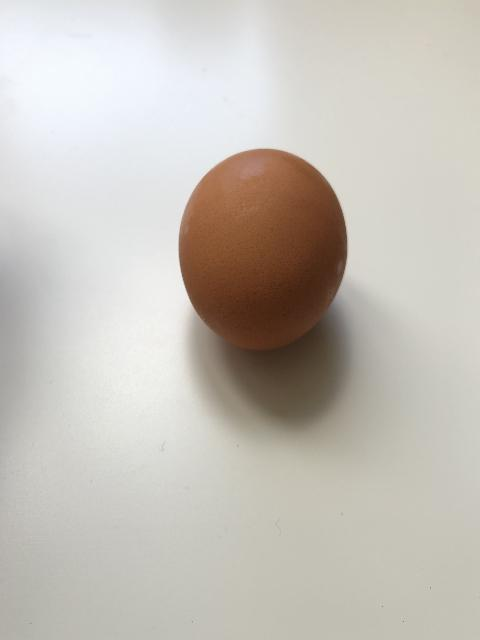Sano: (177, 147, 348, 351)
